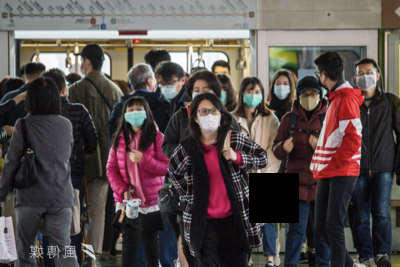with_mask: (195, 107, 221, 134), (353, 67, 376, 91), (122, 105, 146, 128), (156, 78, 179, 100), (297, 91, 321, 112), (241, 88, 263, 110), (191, 85, 215, 104), (272, 80, 291, 101), (217, 86, 228, 107)
